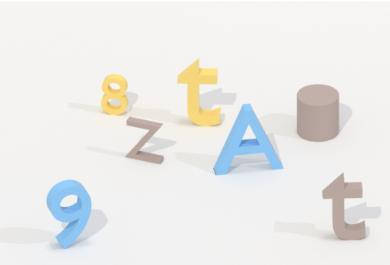0-KhoiTru: (293, 81, 344, 146)
8: (99, 71, 130, 119)
9: (43, 176, 94, 252)
A: (212, 102, 286, 177)
Z: (123, 114, 169, 166)
t: (318, 168, 369, 244), (175, 54, 225, 130)
